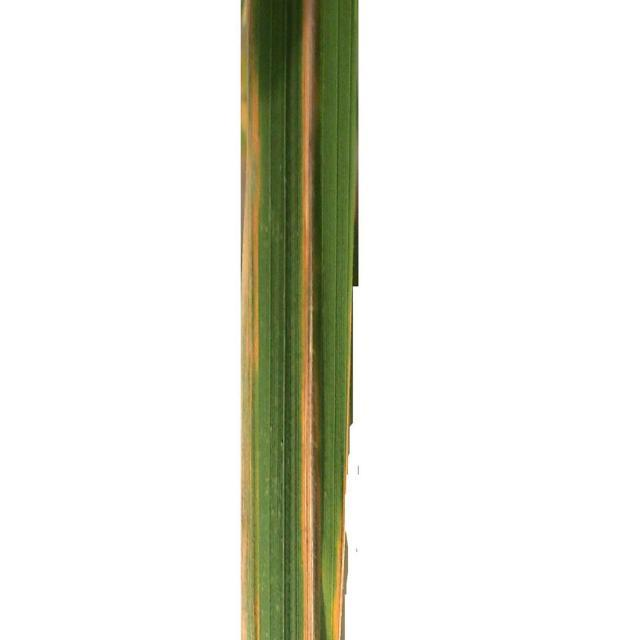leaf blight: (231, 1, 359, 640)
